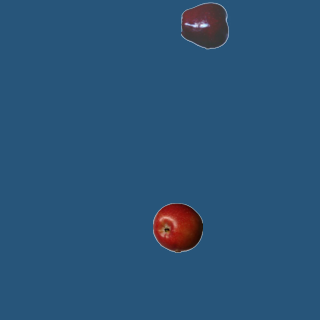Apple Braeburn: (152, 202, 202, 252)
Apple Red Delicious: (180, 0, 230, 50)
